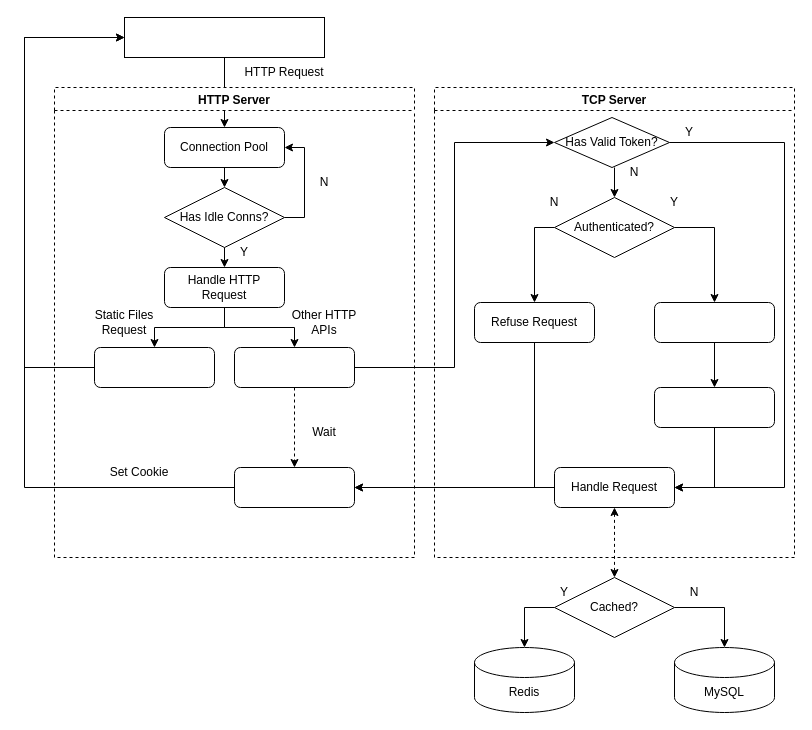
Some shapes in this 812 by 730 pixel diagram are drawn without their labels. The centre of each missing label's shape, as x and y in pixels:
"Call RPC Method" goes at point 294,367.
"Front-End UI" goes at point 224,37.
"Generate Token" goes at point 714,322.
"Get RPC Reply" goes at point 294,487.
"Static File Server" goes at point 154,367.
"Update Cache" goes at point 714,407.
